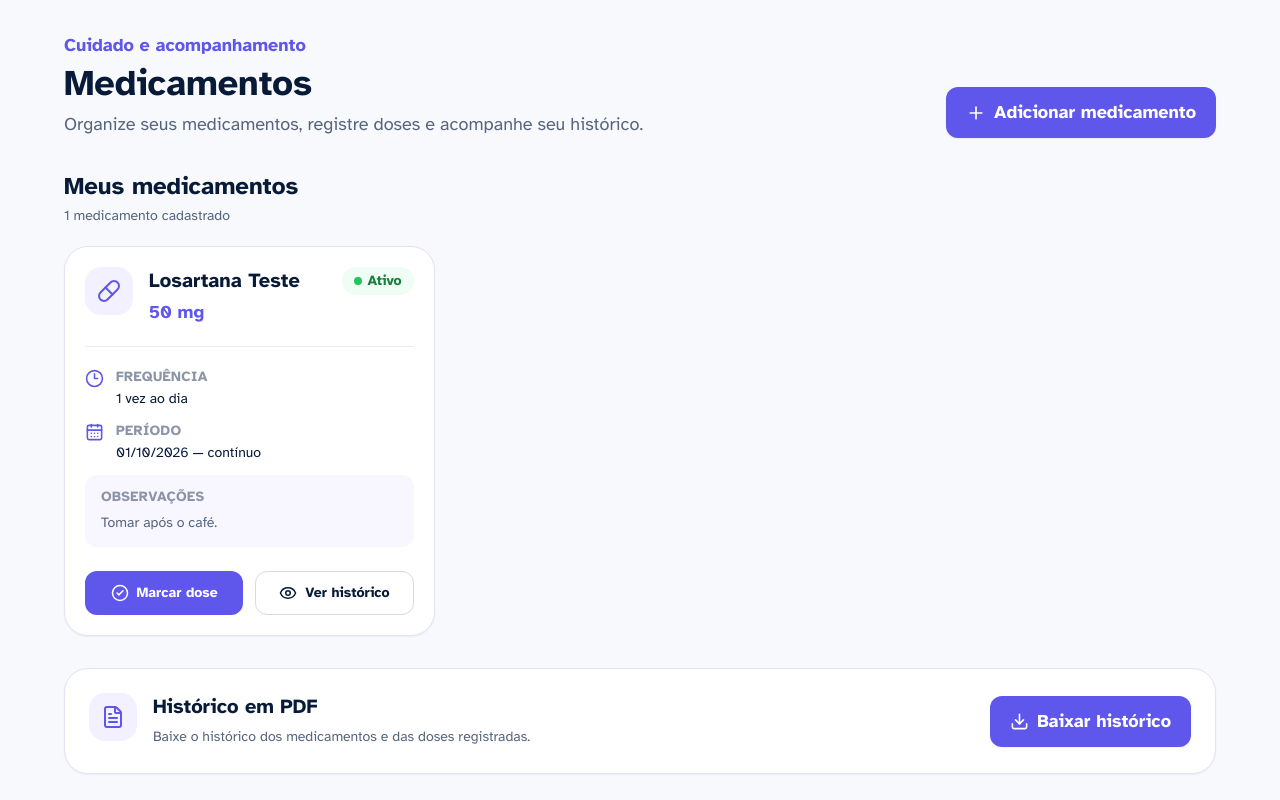
Scenario: Remedios - histórico › fecha o histórico
Click the button "Ver histórico" at (334, 593), box 255,571 -> 414,615
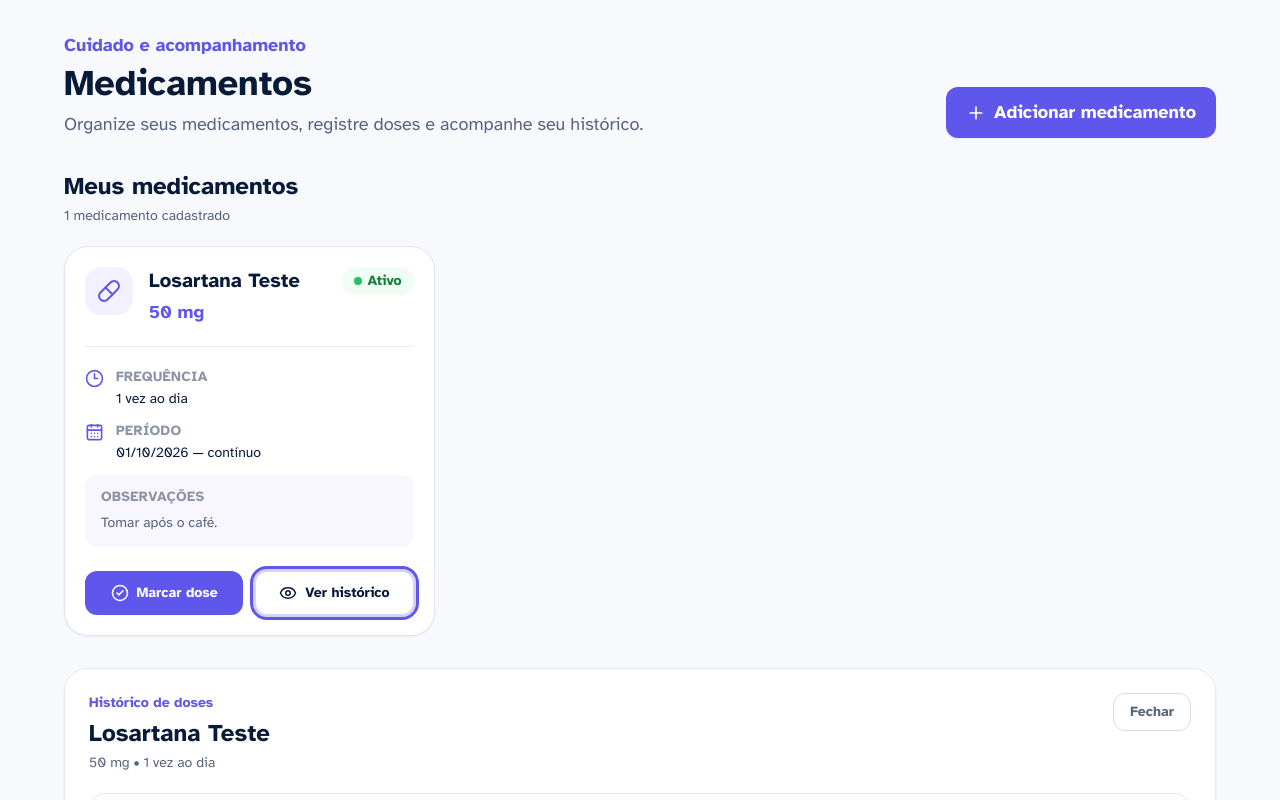
Click the button "Fechar" at (1152, 712), box 1113,693 -> 1191,731
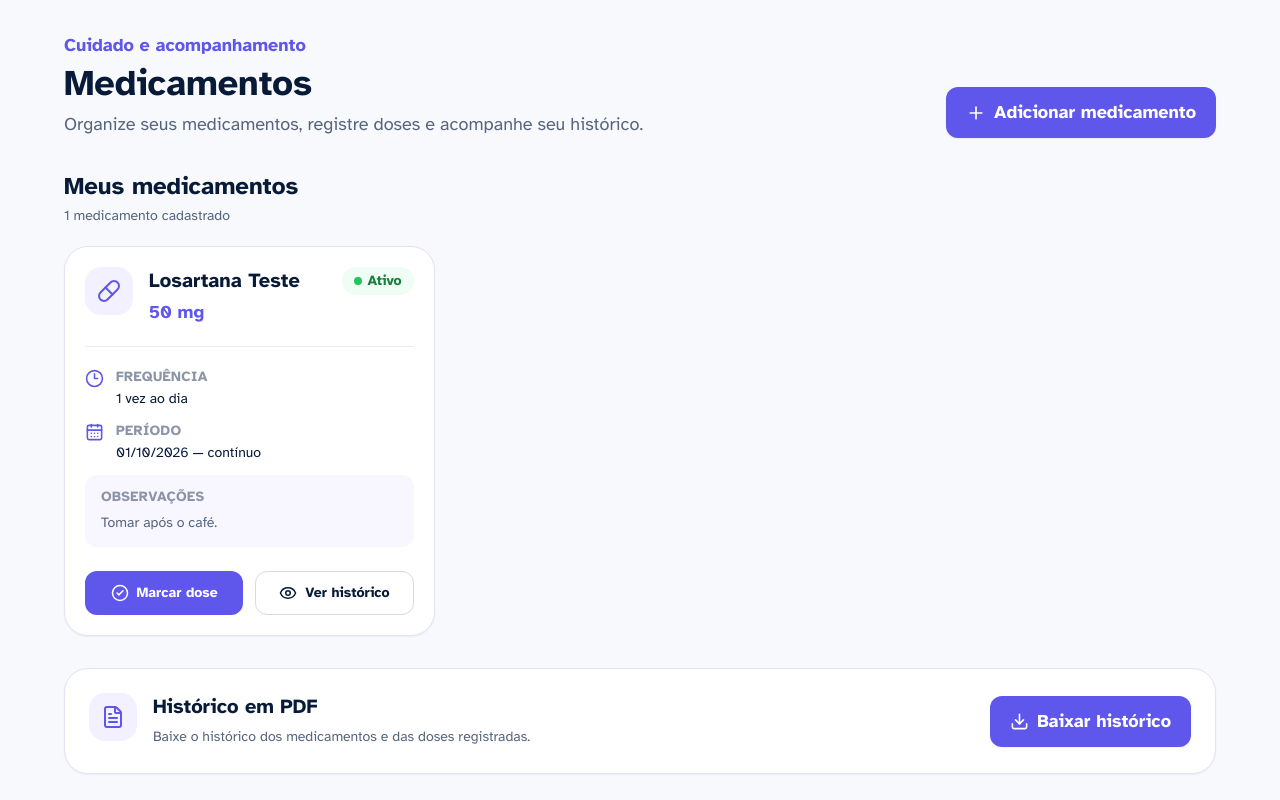
Check: the text "Histórico de doses" is gone
